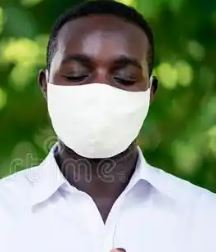with_facemask: (48, 82, 151, 159)
